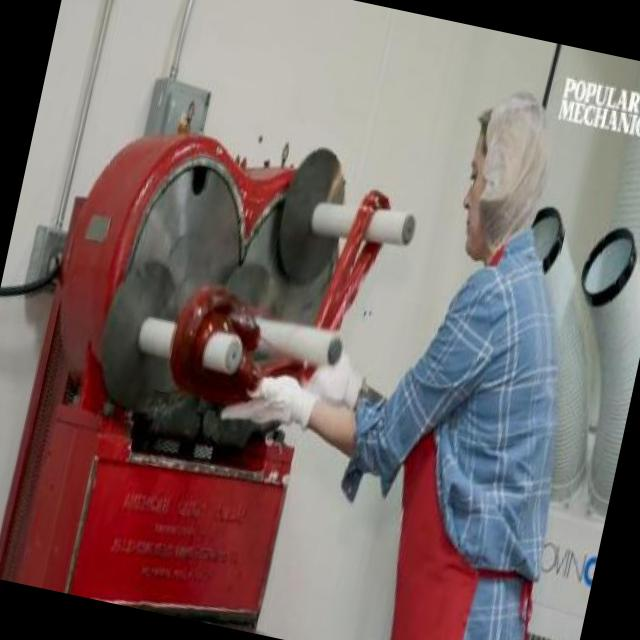hairnet: (476, 92, 558, 182)
